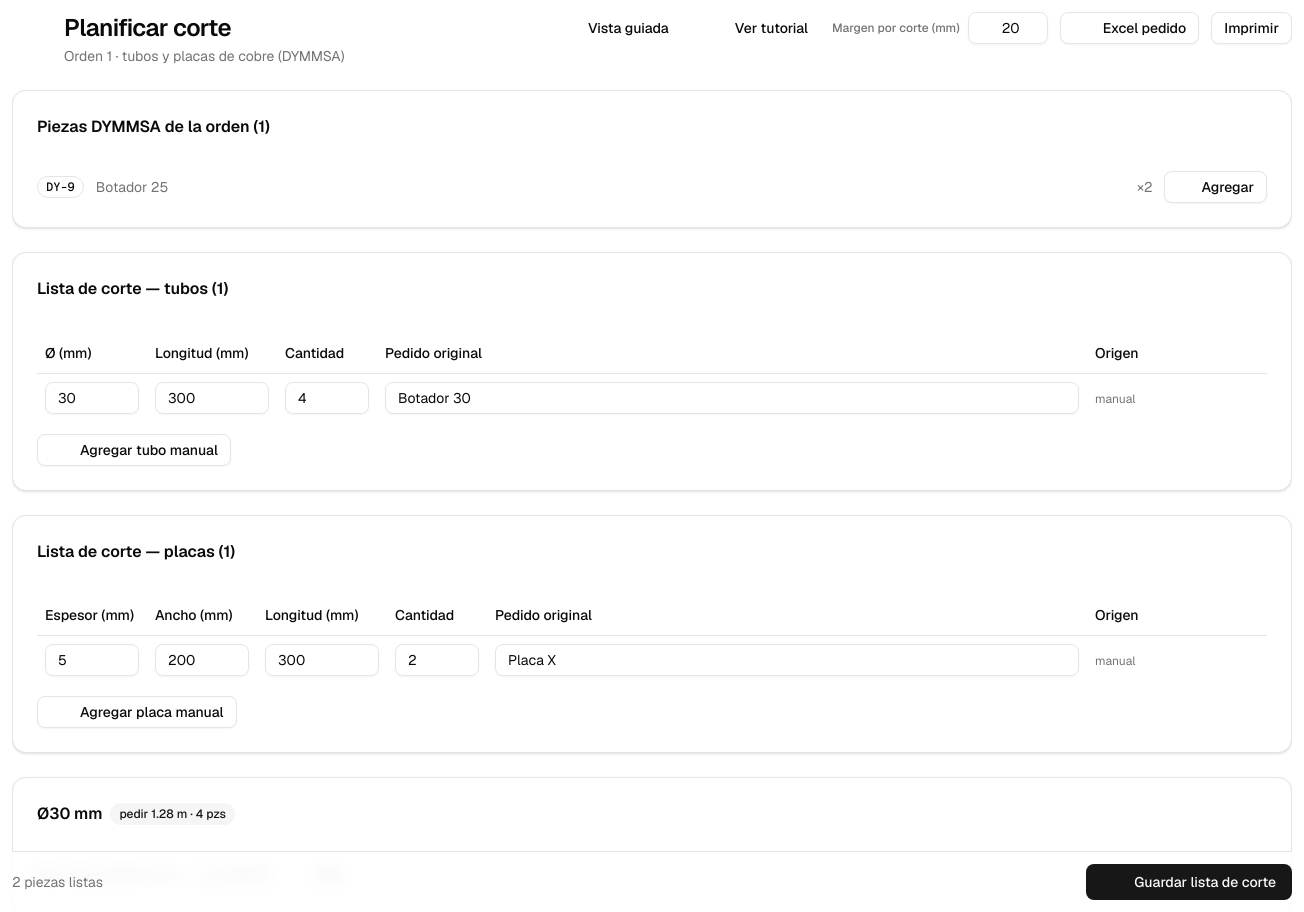
Scenario: CutPlanner › agregar candidato DYMMSA pre-llena con las medidas nominales
Expected: the text "Botador 25" is shown, [96,178,168,196]
Click the button "Agregar" at (1216, 187), box [1164,171,1267,203]
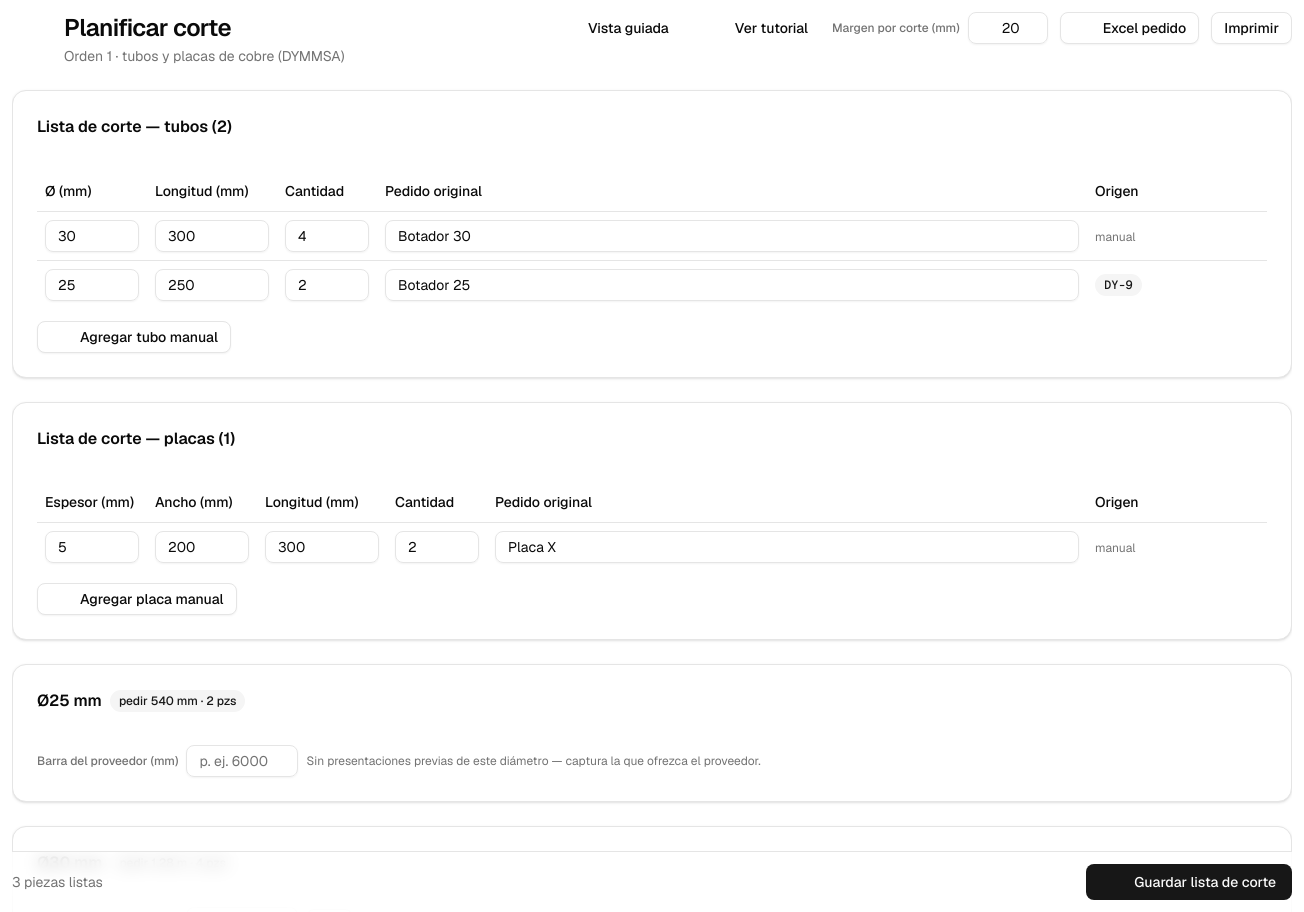
Now the text "Ø25 mm pedir 540 mm · 2 pzs" is shown, box [37,690,246,712]
Now the text "pedir 540 mm · 2 pzs" is shown, box [110,690,246,712]
